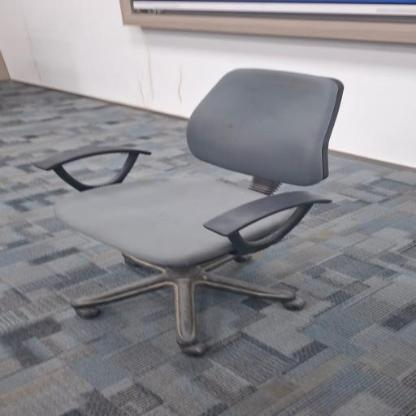chair: (33, 61, 353, 362)
